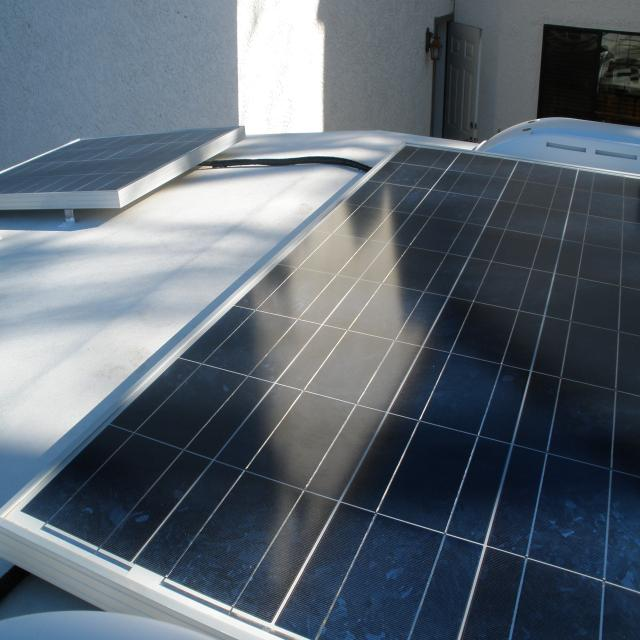clean-solar-panel: (22, 145, 640, 638)
